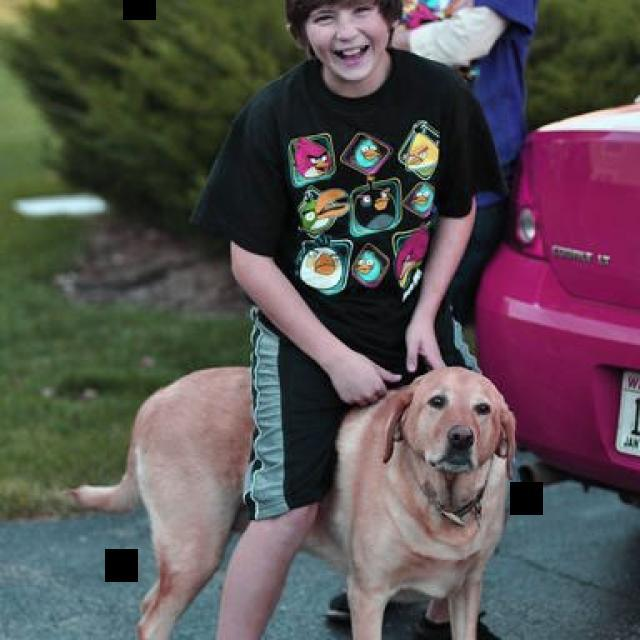adult_dog: (55, 363, 518, 640)
